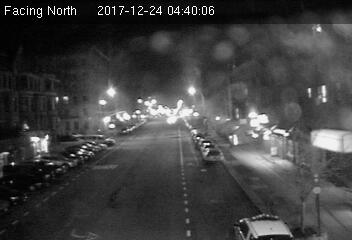car: (201, 146, 225, 163)
police: (231, 210, 297, 240)
